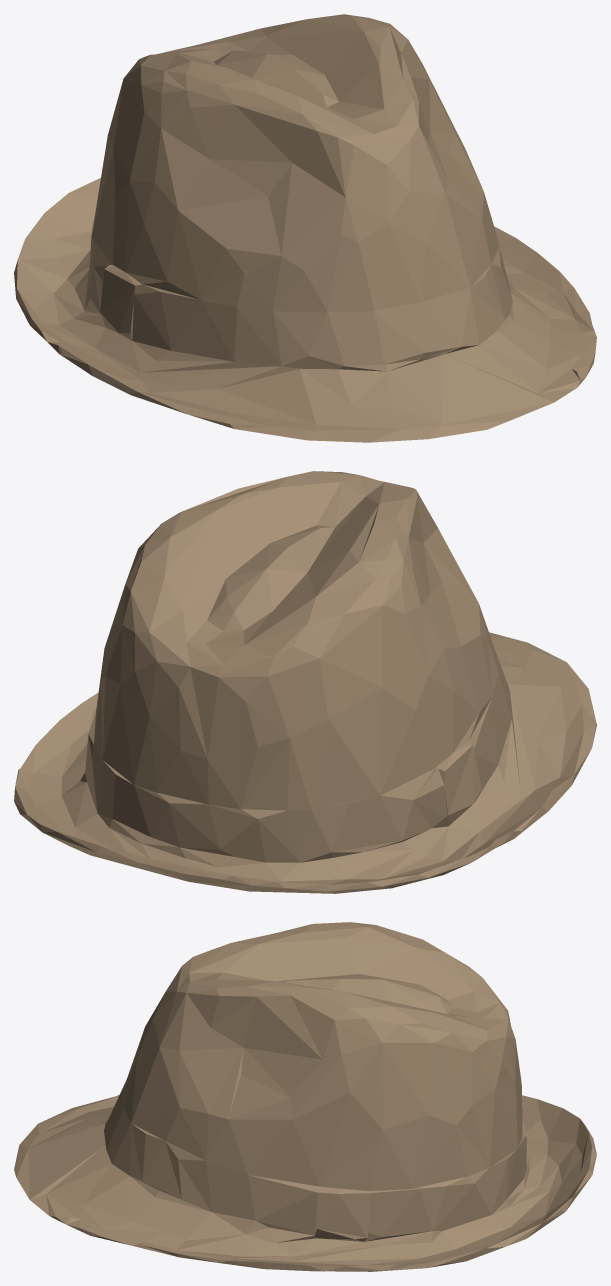
The model's file is fedora.glb.
3 views of the same model, one above another, from view 1: azimuth 30°, elevation 25°; view 2: azimuth 150°, elevation 25°; view 3: azimuth 270°, elevation 25° (orthographic). The views are drawn at different scales.
Parts seen in each view (by area): view 1: fedora; view 2: fedora; view 3: fedora.
Part boxes in pixels (x1,y1,x2,y2): fedora: (14, 14, 596, 442); fedora: (14, 471, 596, 893); fedora: (14, 922, 596, 1271).
Bounding box in the file's own units: 0.7809 × 0.431 × 1.
